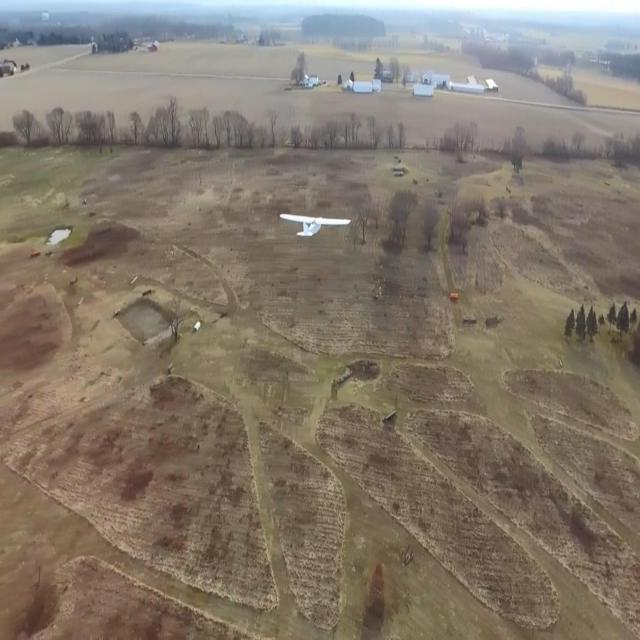UAV: (270, 194, 350, 250)
